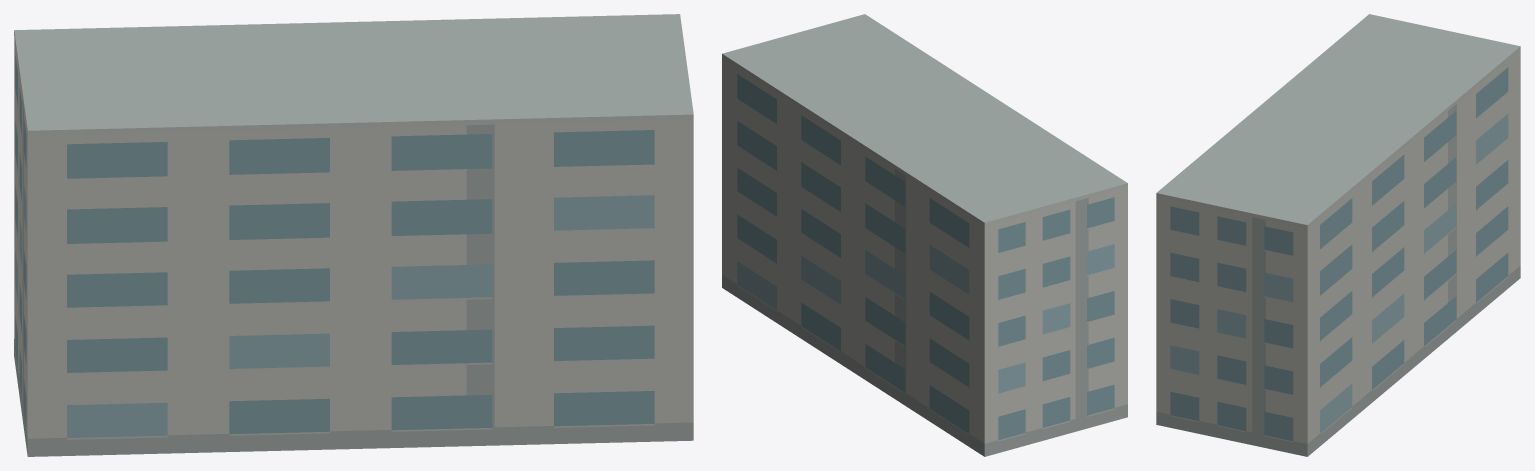
File: residential-8280c988-da35-427f-a6dc-8b37c8bc3c7f.glb
The picture shows the model from 3 angles, left to right: view 1: azimuth 30°, elevation 25°; view 2: azimuth 150°, elevation 25°; view 3: azimuth 270°, elevation 25°; orthographic projection. The views are drawn at different scales.
Visible parts, largest first — view 1: residential-8280c988-da35-427f-a6dc-8b37c8bc3c7f.tmp; view 2: residential-8280c988-da35-427f-a6dc-8b37c8bc3c7f.tmp; view 3: residential-8280c988-da35-427f-a6dc-8b37c8bc3c7f.tmp.
Boxes of the visible parts, bbox=[...] form: residential-8280c988-da35-427f-a6dc-8b37c8bc3c7f.tmp: bbox=[14, 14, 693, 456]; residential-8280c988-da35-427f-a6dc-8b37c8bc3c7f.tmp: bbox=[722, 14, 1127, 456]; residential-8280c988-da35-427f-a6dc-8b37c8bc3c7f.tmp: bbox=[1156, 14, 1520, 456].
Bounding box in the file's own units: 29.8 × 15.25 × 21.74.
